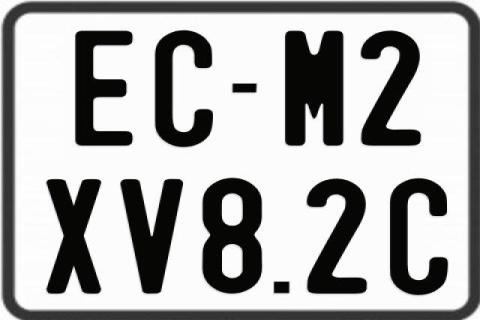0: (201, 177, 267, 296), (307, 178, 372, 298), (360, 30, 422, 148)
C: (154, 28, 215, 146), (387, 178, 446, 300)
E: (73, 30, 137, 146)
M: (285, 28, 347, 144)
V: (117, 179, 183, 295)
X: (44, 179, 104, 293)
